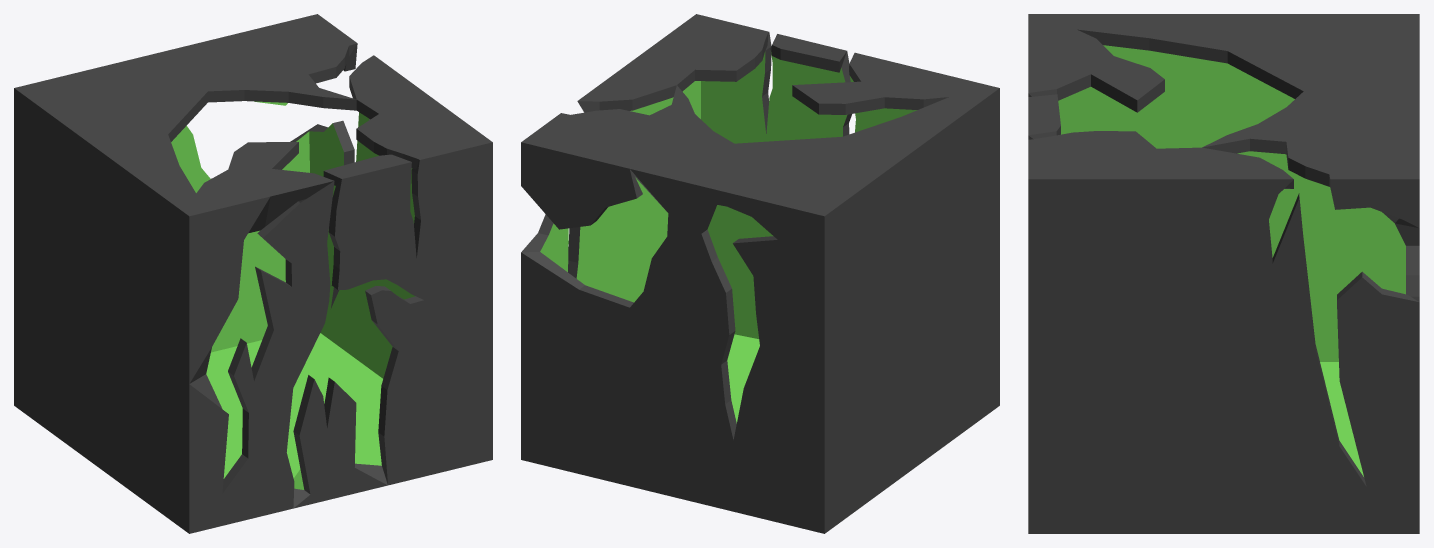
The model's file is GreenCrack1.fbx.
3 views of the same model, side by side, from view 1: azimuth 30°, elevation 25°; view 2: azimuth 150°, elevation 25°; view 3: azimuth 270°, elevation 25° (orthographic). The views are drawn at different scales.
Visible parts, largest first — view 1: Green_Crack1; view 2: Green_Crack1; view 3: Green_Crack1.
Boxes of the visible parts, x1=… form: Green_Crack1: x1=14, y1=14, x2=492, y2=533; Green_Crack1: x1=521, y1=14, x2=999, y2=533; Green_Crack1: x1=1028, y1=14, x2=1419, y2=533.
Bounding box in the file's own units: 200 × 200 × 200.
